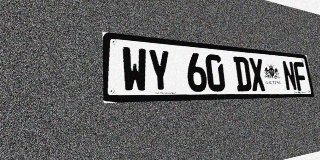0: (205, 54, 226, 92)
6: (185, 52, 208, 92)
D: (233, 56, 252, 91)
F: (293, 61, 308, 91)
N: (282, 60, 297, 91)
W: (121, 46, 148, 93)
X: (248, 58, 266, 91)
Y: (147, 49, 172, 92)
